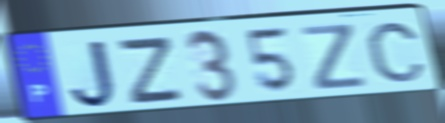3: (185, 26, 239, 106)
5: (242, 27, 299, 97)
C: (365, 20, 429, 85)
J: (67, 38, 119, 112)
Z: (299, 21, 370, 93), (118, 34, 186, 107)
